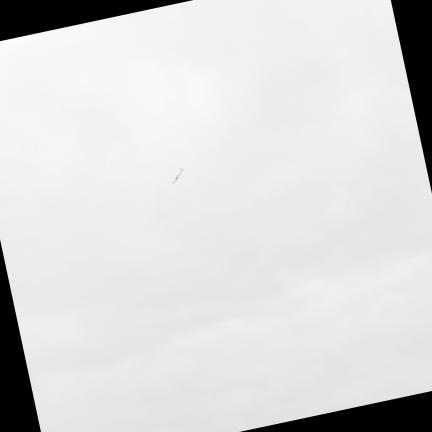Shahed: (174, 168, 183, 184)
